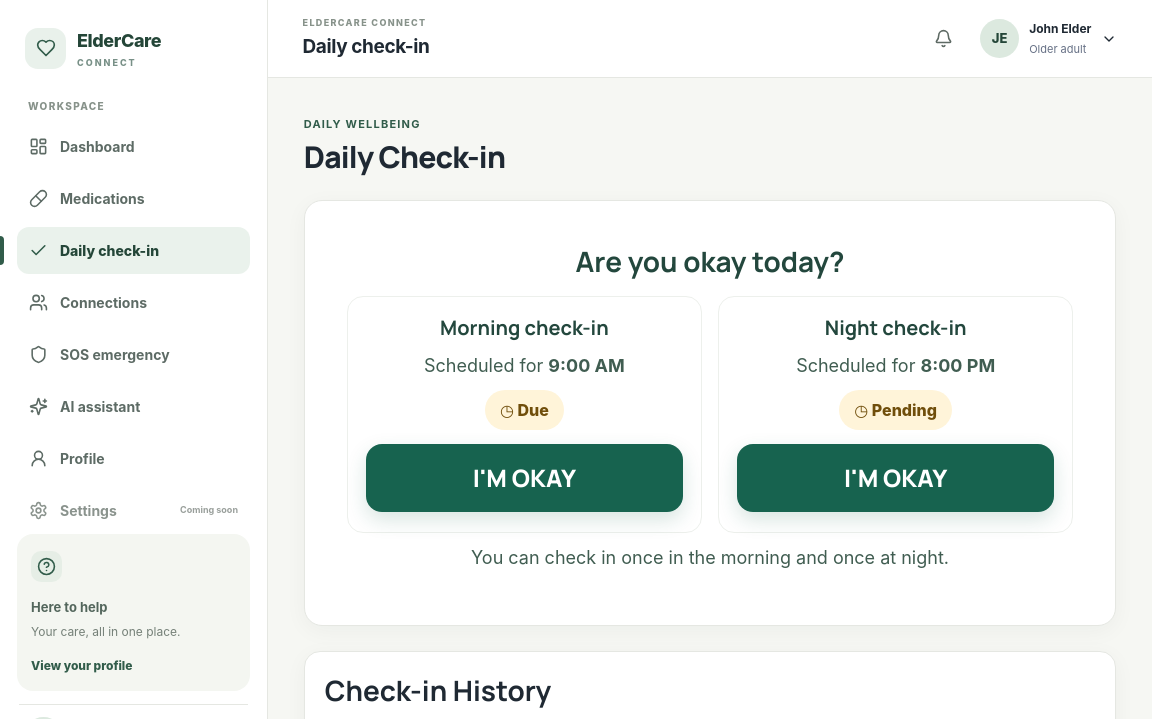
it: daily check-in pages › shows two daily periods and completes only the selected one
Expected: the heading "Are you okay today?" is shown, [576,242,844,280]
Expected: the heading "Morning check-in" is shown, [440,314,609,340]
Click the button "I'M OKAY" below "◷ Due": (524,478) [366,444,683,512]
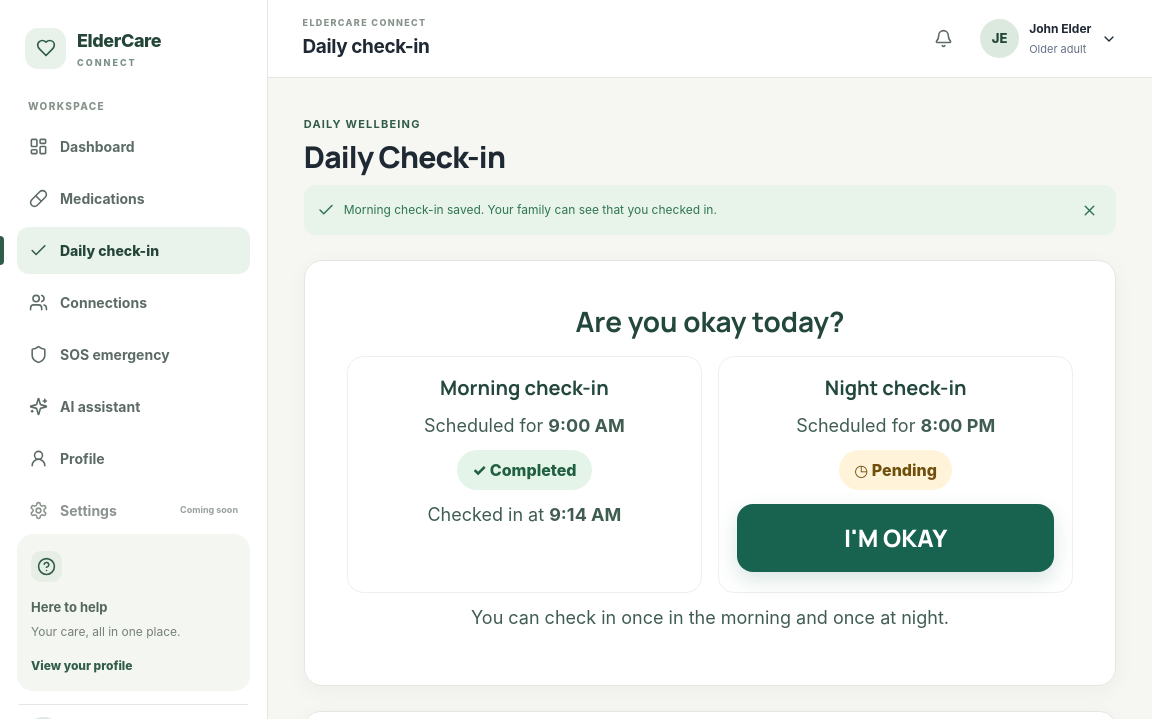
Expected: the heading "Night check-in" is shown, [825,374,966,400]
Now the text "Morning check-in saved. Your family can see that you checked in." is shown, box [344,202,717,217]
Now the number of buttons "I'M OKAY" is 1, box [737,504,1054,572]
